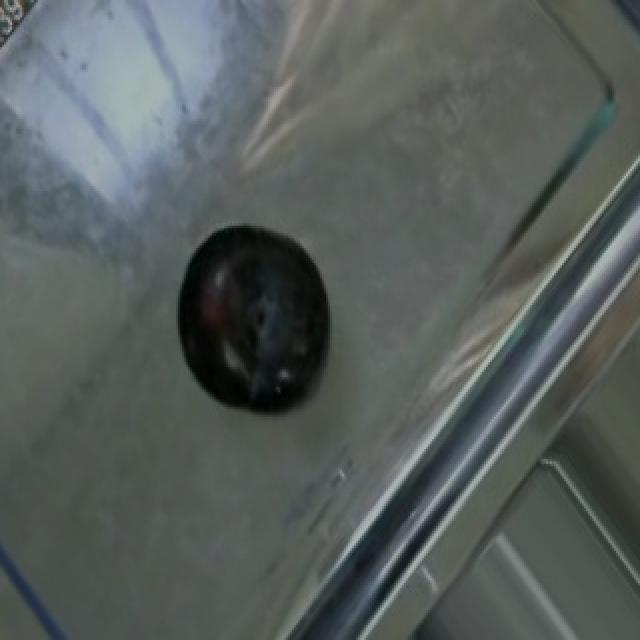Fruit: (156, 203, 358, 412)
